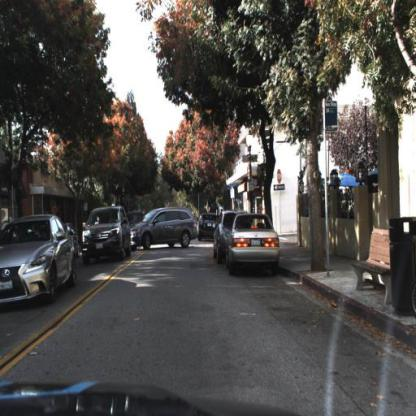car: (0, 209, 77, 310), (222, 207, 281, 279), (78, 201, 132, 269), (128, 203, 196, 254), (211, 208, 248, 264), (209, 204, 227, 270)
